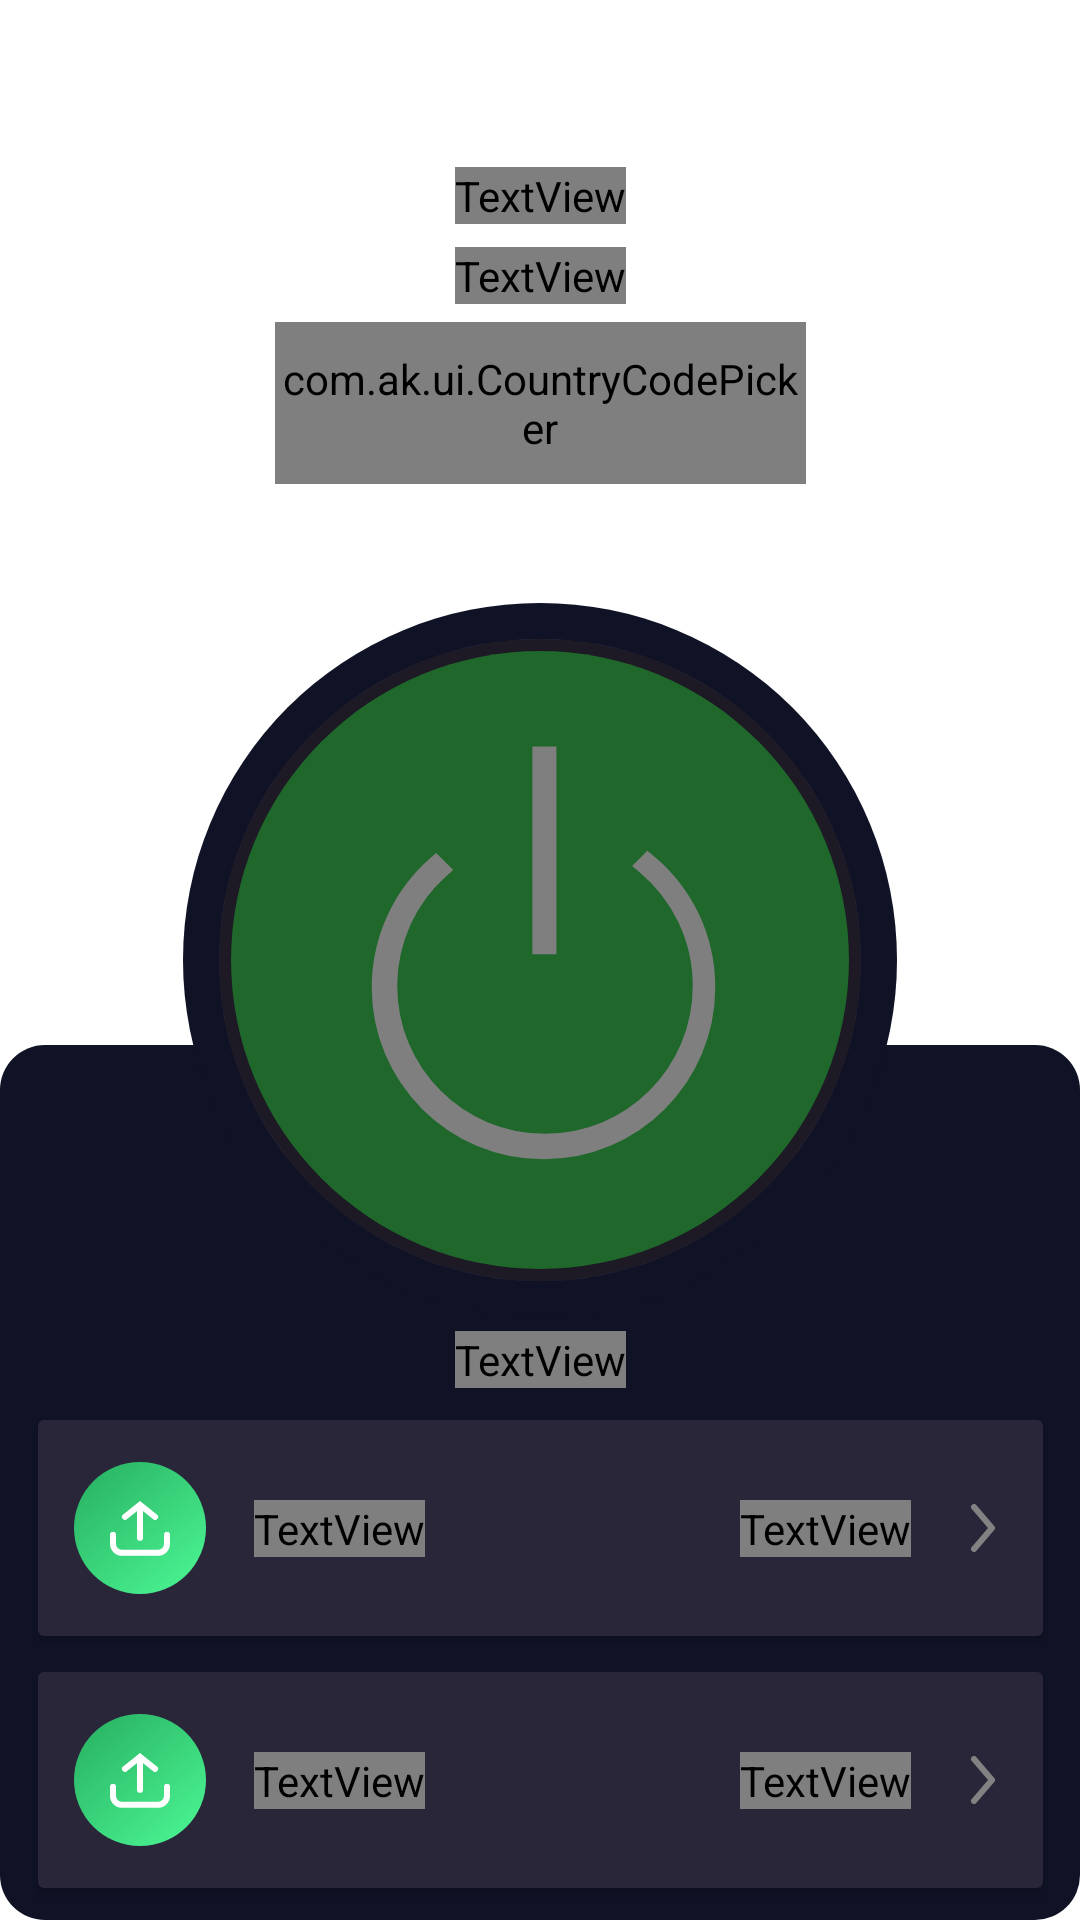

Locate icon controls on the screen. Image size 1080px x 1920px, boxes as (x1, y1, x2, y2).
upload circle: (74, 1462, 206, 1594), (74, 1714, 206, 1846)
